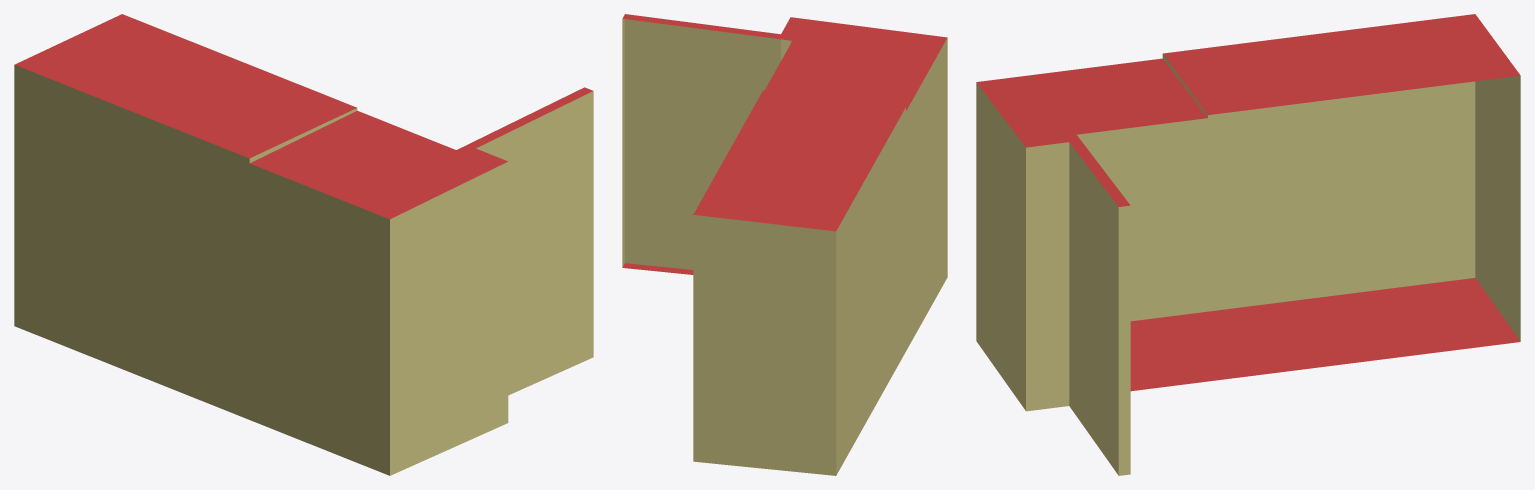
The picture shows the model from 3 angles, left to right: view 1: azimuth 30°, elevation 25°; view 2: azimuth 150°, elevation 25°; view 3: azimuth 270°, elevation 25°; orthographic projection. The views are drawn at different scales.
Bounding box in the file's own units: 9.38 × 10.9 × 5.94.
